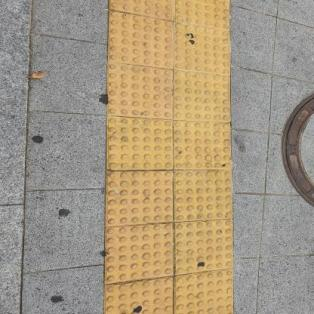Podoctatil: (96, 0, 244, 313)
